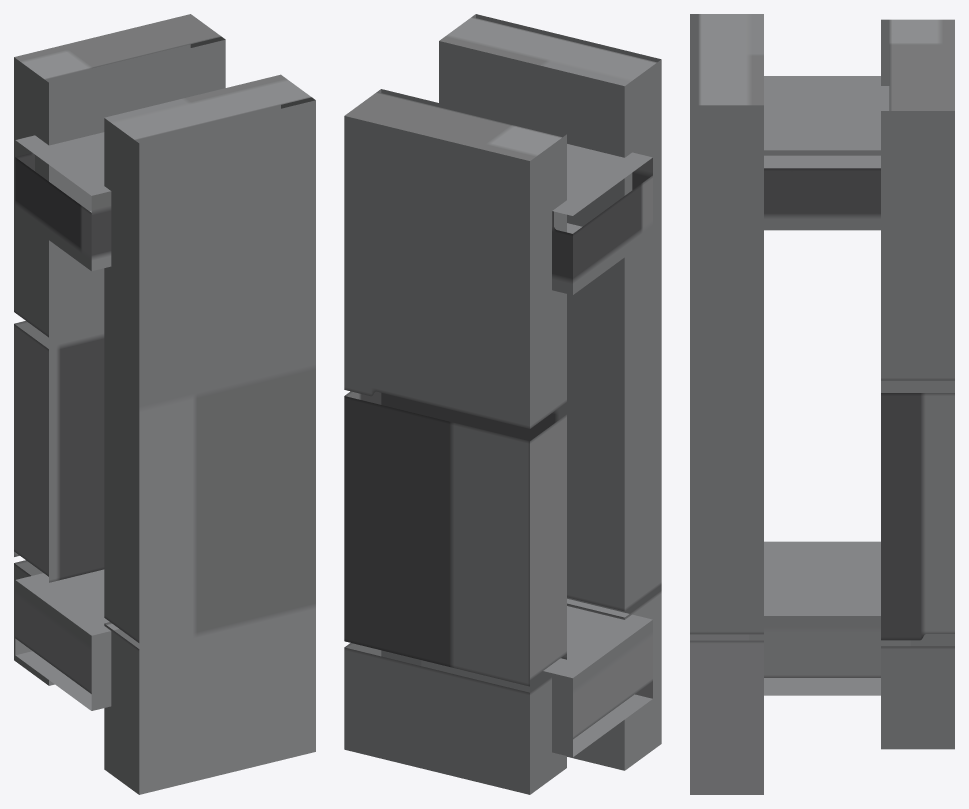
The picture shows the model from 3 angles, left to right: view 1: azimuth 30°, elevation 25°; view 2: azimuth 150°, elevation 25°; view 3: azimuth 270°, elevation 25°; orthographic projection. The views are drawn at different scales.
Bounding box in the file's own units: 0.3272 × 1.04 × 0.361.
